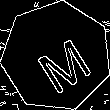M_NW: (23, 23, 90, 90)
